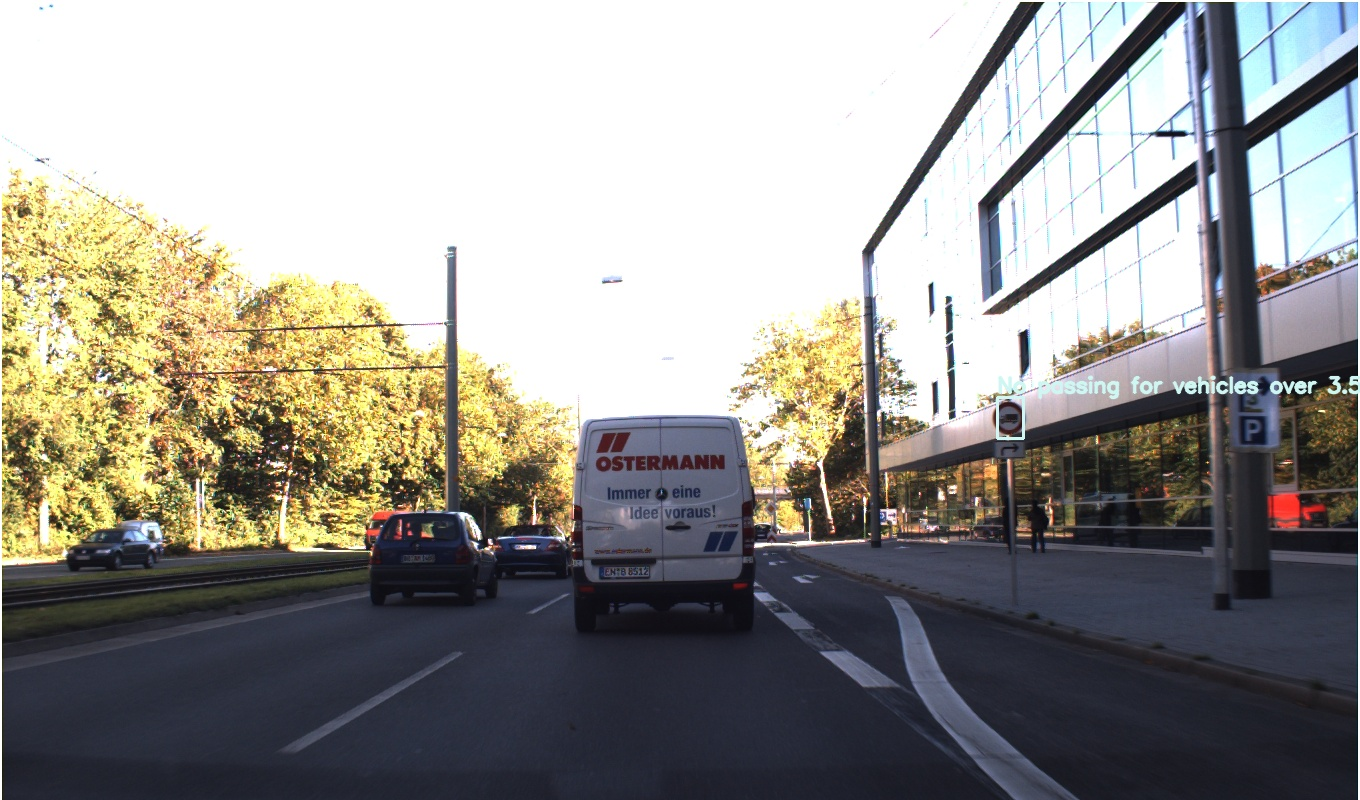Speed limit (30km/h): (990, 418, 1036, 467)
